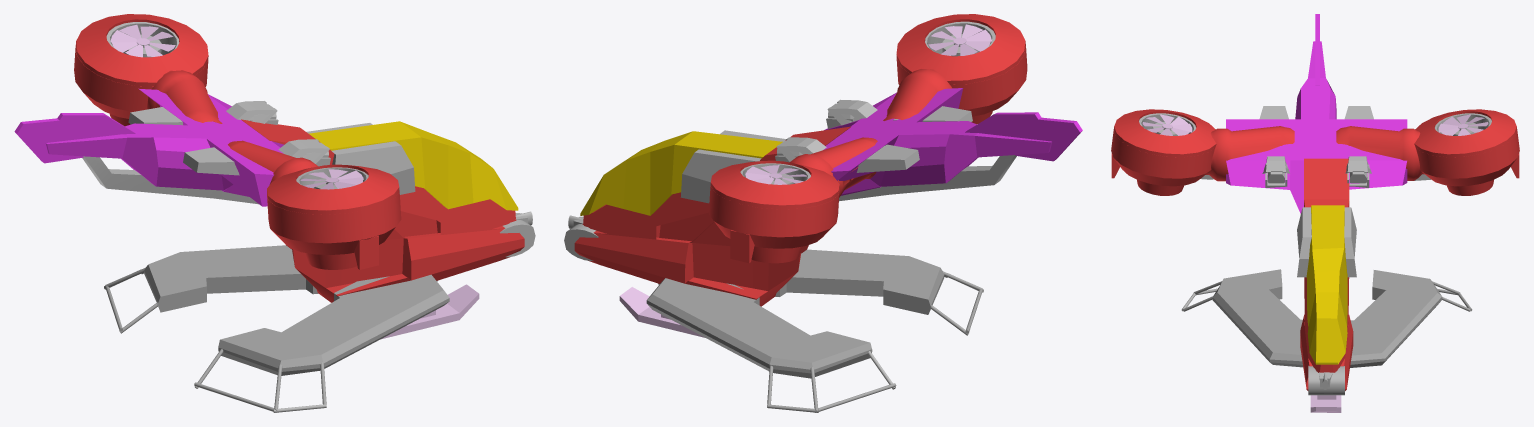
File: helicopter_2.fbx
3 renders of one model, left to right at view 1: azimuth 30°, elevation 25°; view 2: azimuth 150°, elevation 25°; view 3: azimuth 270°, elevation 25°, orthographic. The views are drawn at different scales.
Visible parts, largest first — view 1: polySurface309; view 2: polySurface309; view 3: polySurface309.
Boxes of the visible parts, <box> form: polySurface309: <box>14,14,535,412</box>; polySurface309: <box>564,14,1082,412</box>; polySurface309: <box>1111,14,1519,412</box>.
Bounding box in the file's own units: 23.21 × 12.77 × 20.25.
